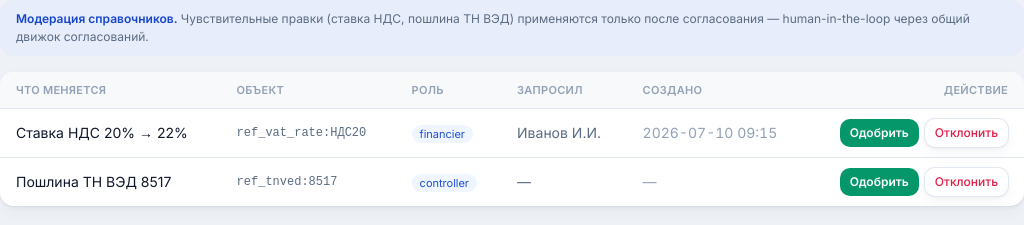
Test: SpravAdmin › одобрение: успешный ответ убирает строку из очереди и показывает тост «Правка одобрена»
The image size is (1024, 225).
Click the button "Одобрить" in the row of "Ставка НДС 20% → 22%" at (879, 133), box x1=840 y1=119 x2=919 y2=147
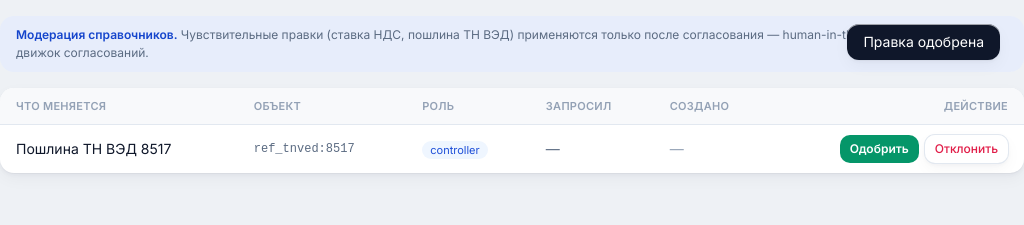
Expected: the text "Пошлина ТН ВЭД 8517" is shown, x1=0 y1=124 x2=238 y2=173
Expected: the text "Правка одобрена" is shown, x1=847 y1=24 x2=1000 y2=60
Expected: the text "Ставка НДС 20% → 22%" is gone
